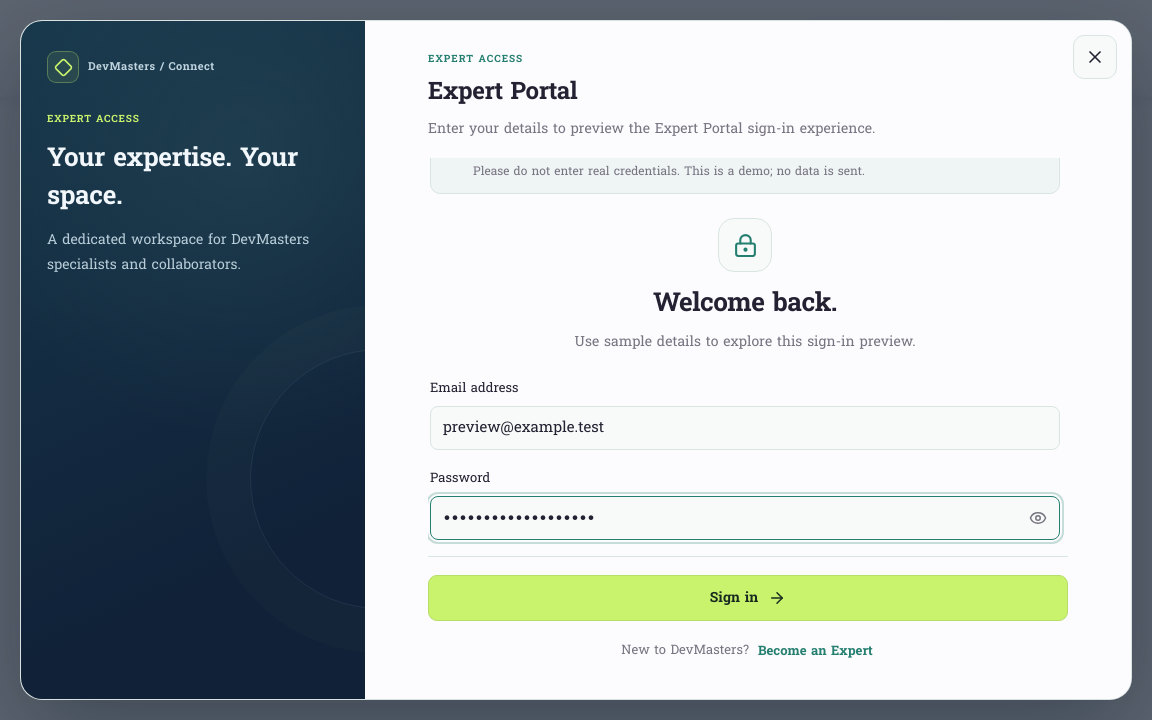
Scenario: header Expert Portal design preview › validates sample details, toggles password visibility and reports that no sign-in request was sent
Earlier steps of the test are not shown.
(page scrolled)
Click the button "Sign in": click(748, 598) [428, 575, 1068, 621]
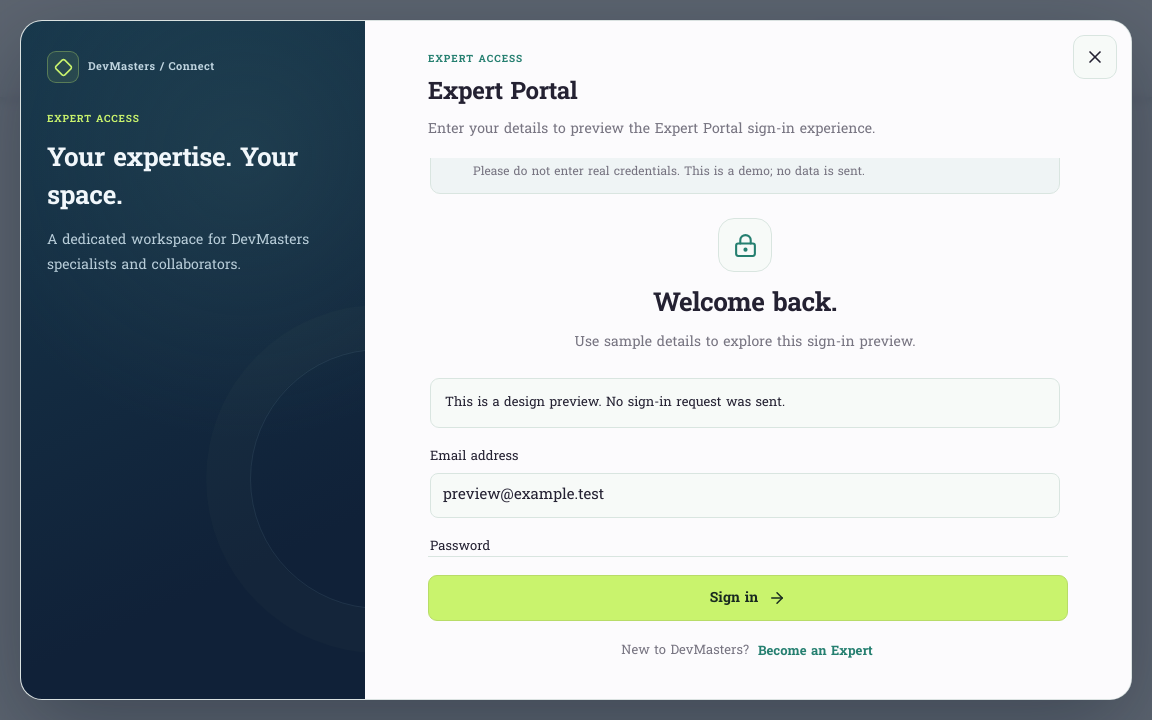
Expected: the message reads "This is a design preview. No sign-in request was sent.", [445, 390, 785, 414]
